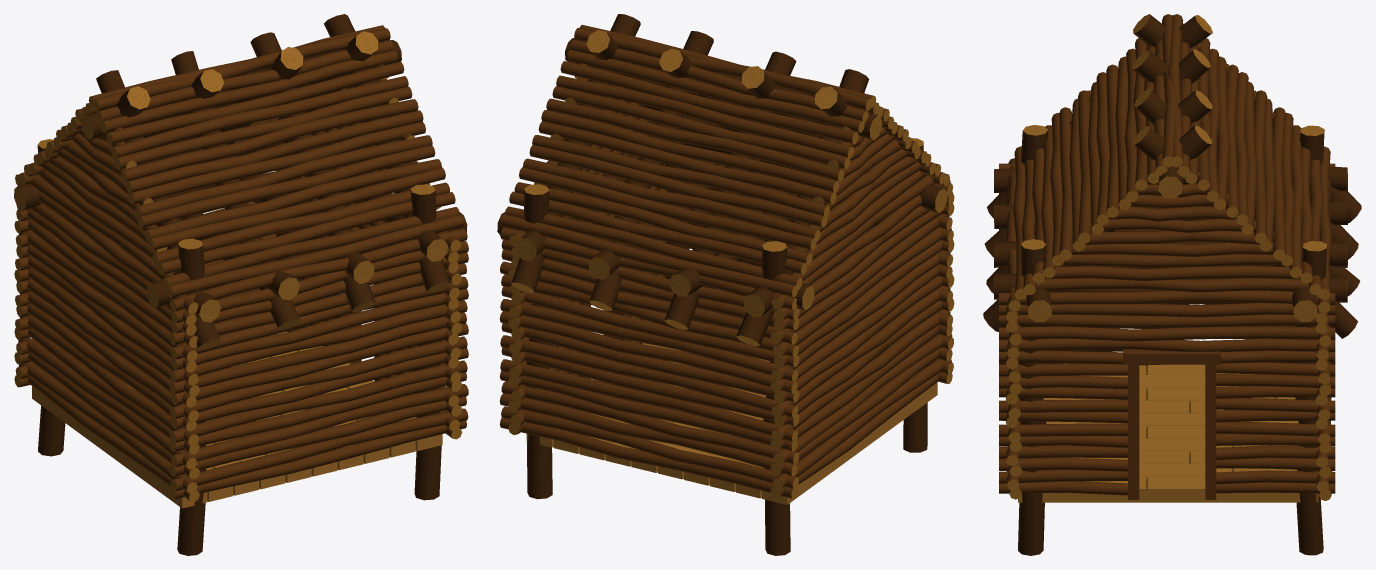
Rendered from TexturedShackWITHSpeakerFBX.FBX.
3 renders of one model, left to right at view 1: azimuth 30°, elevation 25°; view 2: azimuth 150°, elevation 25°; view 3: azimuth 270°, elevation 25°, orthographic.
Visible parts, largest first — view 1: Object033, Object020, Object028, Floor, Object029, Object030, Object027, Object023, Object022, Object042, Object041, Object040 (+13 smaller); view 2: Object030, Object027, Object028, Floor, Object029, Object020, Object033, Object024, Object025, Object046, Object045, Object043 (+13 smaller); view 3: Object029, Object033, Object030, Floor, Box005, Object020, Object023, Object027, Object024, Object028, Object036, Object043 (+15 smaller).
Part boxes in pixels (box(x1,y1,x2,y2)): Object033: box(94, 28, 464, 297); Object020: box(169, 228, 468, 499); Object028: box(18, 127, 199, 501); Floor: box(32, 331, 442, 508); Object029: box(299, 64, 462, 439); Object030: box(15, 25, 384, 185); Object027: box(14, 171, 275, 387); Object023: box(410, 184, 442, 500); Object022: box(177, 238, 206, 555); Object042: box(250, 32, 375, 312); Object041: box(171, 51, 300, 329); Object040: box(324, 14, 449, 292); Object030: box(500, 28, 871, 297); Object027: box(499, 227, 799, 498); Object028: box(770, 120, 952, 497); Floor: box(526, 343, 937, 504); Object029: box(508, 63, 667, 434); Object020: box(688, 159, 954, 383); Object033: box(579, 25, 949, 185); Object024: box(524, 184, 554, 499); Object025: box(762, 241, 790, 555); Object046: box(664, 51, 796, 330); Object045: box(589, 31, 713, 310); Object043: box(511, 14, 640, 292); Object029: box(999, 172, 1335, 495); Object033: box(1013, 14, 1176, 299); Object030: box(1168, 14, 1331, 299); Floor: box(1018, 363, 1318, 502); Box005: box(1123, 349, 1220, 499); Object020: box(1005, 158, 1022, 499); Object023: box(1018, 239, 1046, 555); Object027: box(1315, 178, 1331, 500); Object024: box(1292, 241, 1327, 555); Object028: box(999, 42, 1335, 365); Object036: box(994, 273, 1347, 303); Object043: box(1132, 126, 1357, 338).
Size of the model in its own units: 118 by 155 by 126.
5 materials, 5 textured.
